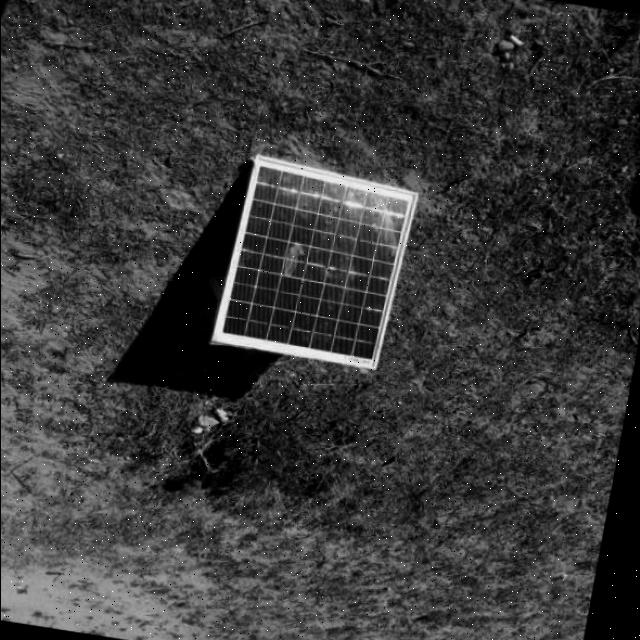Normal Solar Panel: (213, 154, 420, 368)
